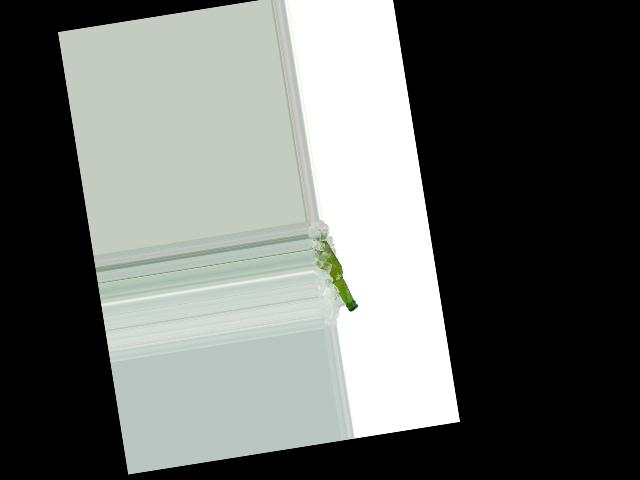beer: (318, 231, 358, 315)
